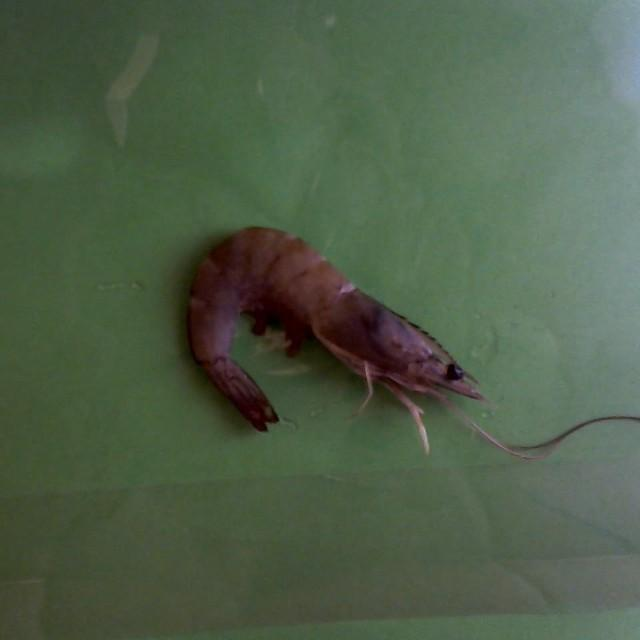shrimp: (188, 229, 486, 431)
